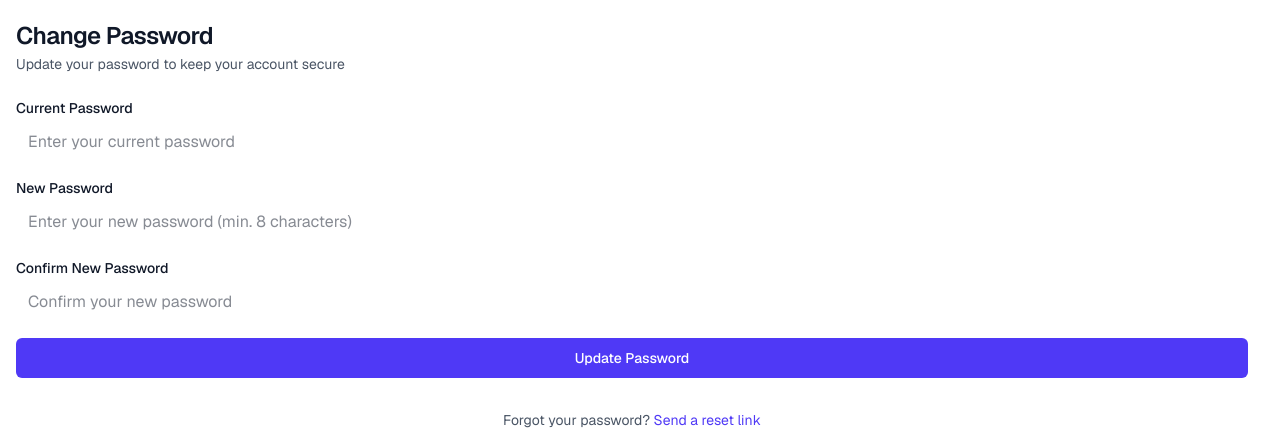
Test: ProfilePasswordUpdateClient › should show error when new password is too short
Type "OldPassword123!" into the password field labelled "Current Password" at (632, 142), box [16,122,1248,162]
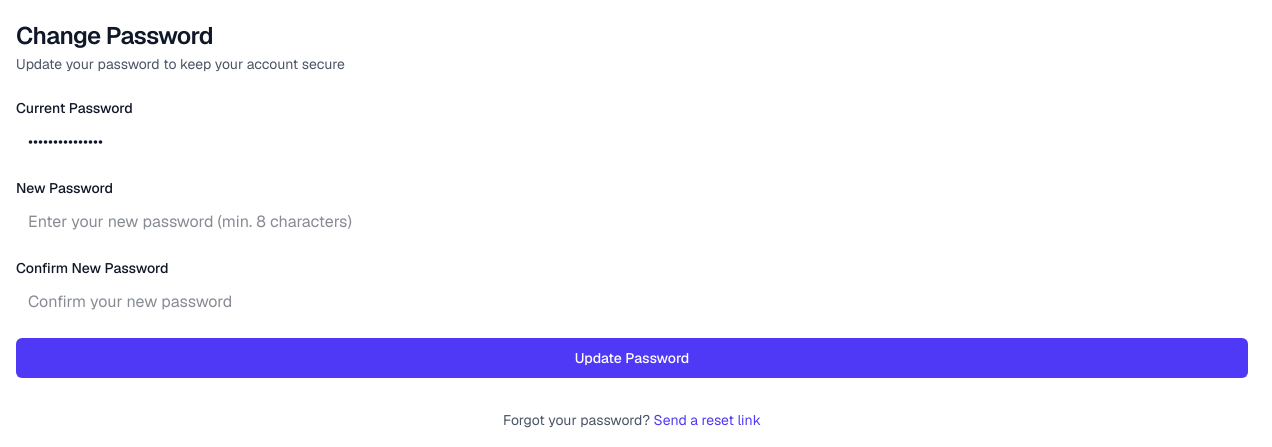
Type "short" into the password field labelled "New Password" at (632, 222), box [16,202,1248,242]
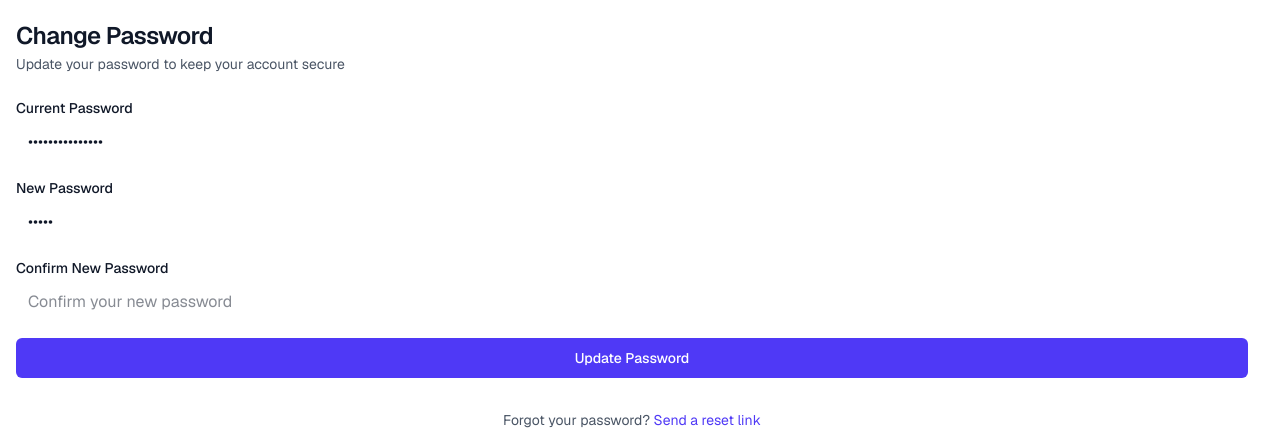
Submit the form "Update Password"
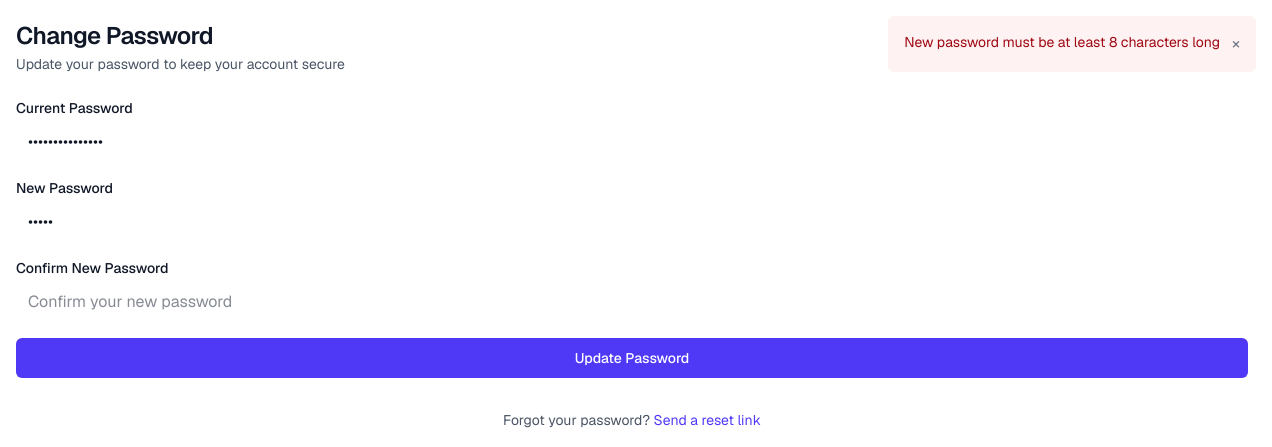
Check: the text "New password must be at least 8 characters long" is shown, box [904,32,1220,52]
